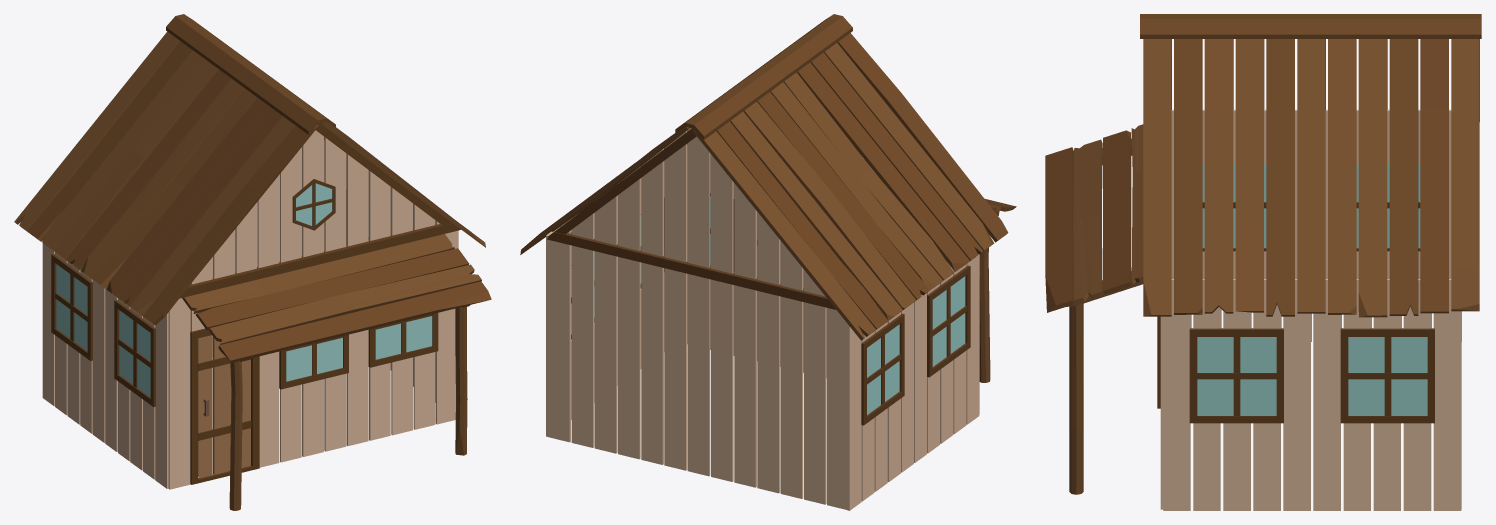
Rendered from House_06.fbx.
The picture shows the model from 3 angles, left to right: view 1: azimuth 30°, elevation 25°; view 2: azimuth 150°, elevation 25°; view 3: azimuth 270°, elevation 25°; orthographic projection. The views are drawn at different scales.
Visible parts, largest first — view 1: House_06; view 2: House_06; view 3: House_06.
Part boxes in pixels (bbox=[...]): House_06: bbox=[14, 14, 491, 510]; House_06: bbox=[520, 14, 1016, 510]; House_06: bbox=[1045, 14, 1481, 510].
Size of the model in its own units: 487 by 475 by 459.
